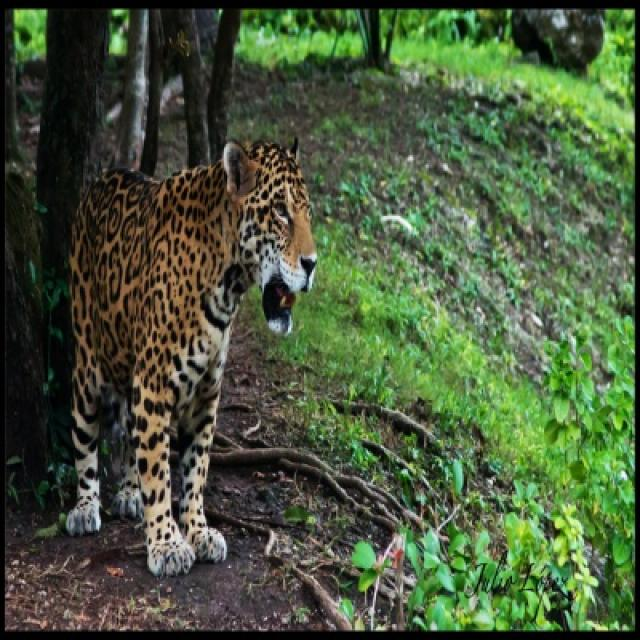Jaguar: (51, 141, 318, 578)
